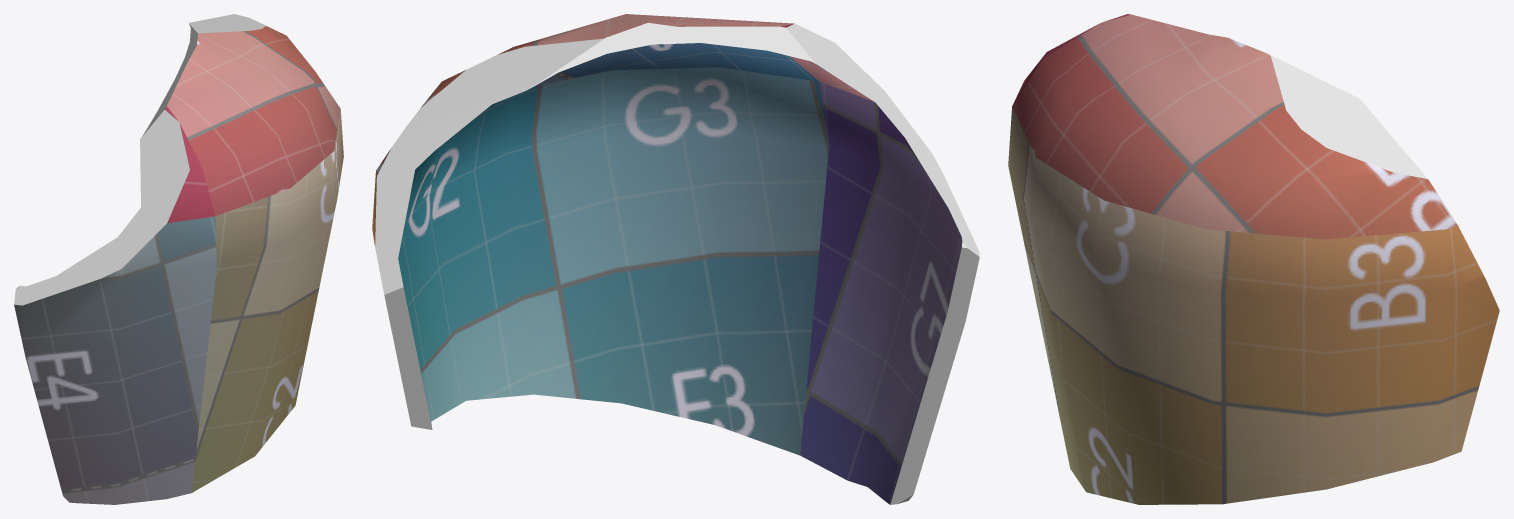
The model's file is MediumVase_SHAT_cell_006.fbx.
The picture shows the model from 3 angles, left to right: view 1: azimuth 30°, elevation 25°; view 2: azimuth 150°, elevation 25°; view 3: azimuth 270°, elevation 25°; orthographic projection. The views are drawn at different scales.
Visible parts, largest first — view 1: MediumVase_SHAT_cell_006; view 2: MediumVase_SHAT_cell_006; view 3: MediumVase_SHAT_cell_006.
Boxes of the visible parts, left/top/right/bottom form: MediumVase_SHAT_cell_006: left=14, top=14, right=343, bottom=504; MediumVase_SHAT_cell_006: left=372, top=14, right=979, bottom=504; MediumVase_SHAT_cell_006: left=1008, top=14, right=1499, bottom=504.
Bounding box in the file's own units: 0.937 × 0.9045 × 0.8468.
Materials: 2 (1 with a texture image).
